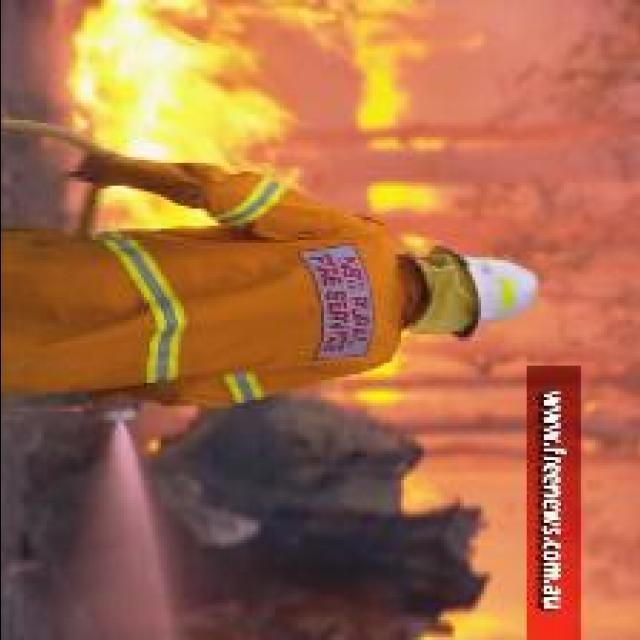Fire: (68, 0, 299, 231), (354, 0, 437, 134), (368, 190, 442, 210)
